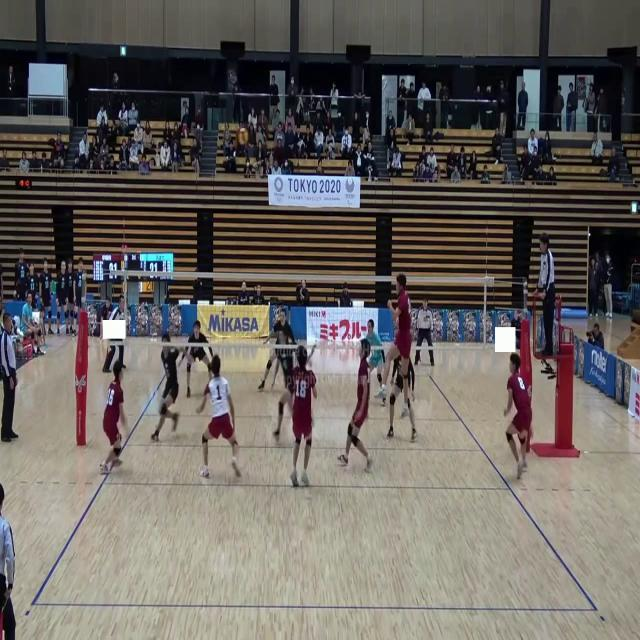volleyball: (237, 128, 249, 144)
